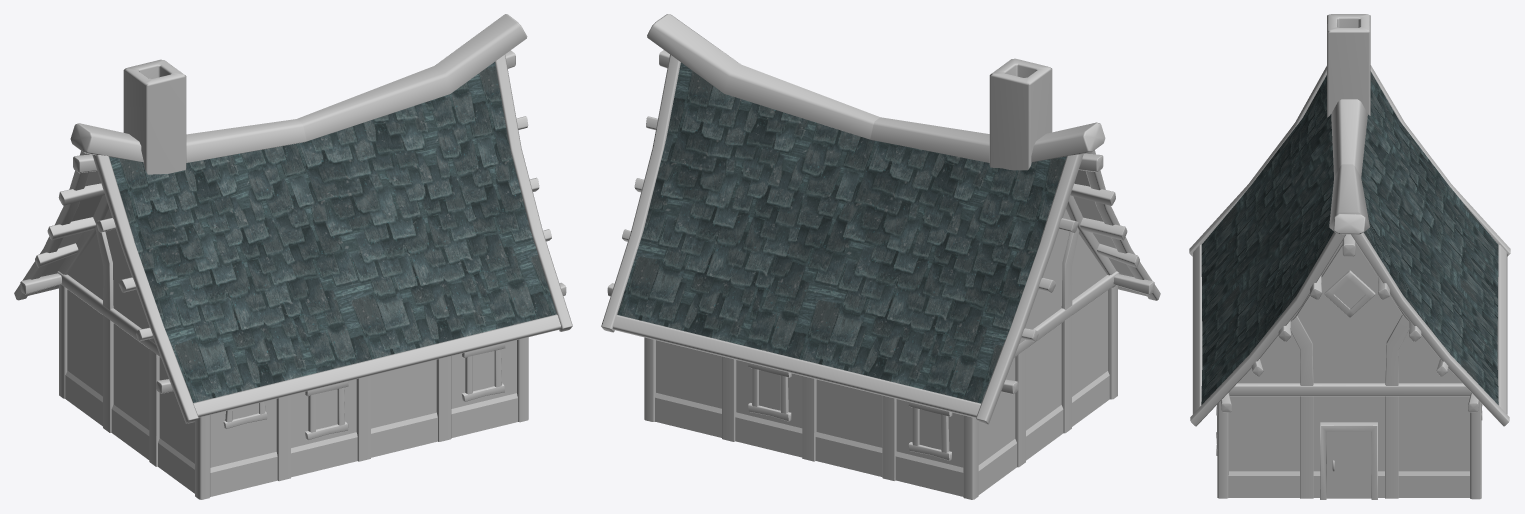
Rendered from house21.fbx.
3 views of the same model, side by side, from view 1: azimuth 30°, elevation 25°; view 2: azimuth 150°, elevation 25°; view 3: azimuth 270°, elevation 25° (orthographic). The views are drawn at different scales.
Parts seen in each view (by area): view 1: house21; view 2: house21; view 3: house21.
Boxes of the visible parts, x1,y1,x2,y2 form: house21: (14, 14, 572, 499); house21: (601, 14, 1160, 499); house21: (1189, 14, 1510, 499).
Size of the model in its own units: 1318 by 1047 by 896.
